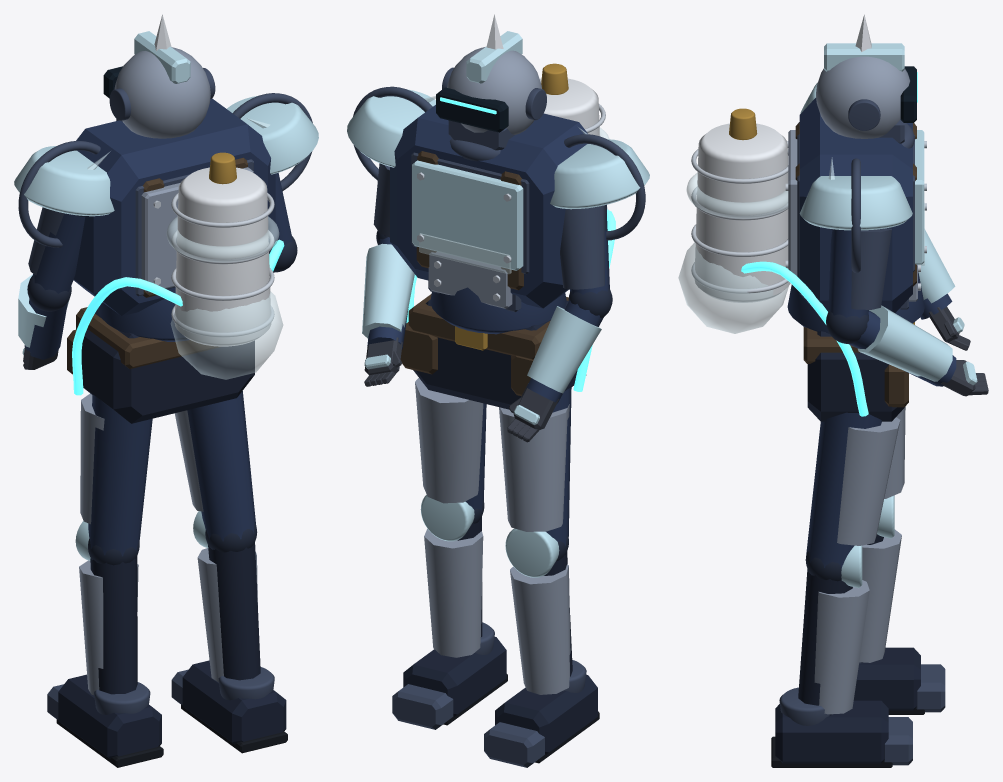
The model's file is hero_glacier.glb.
3 renders of one model, left to right at view 1: azimuth 30°, elevation 25°; view 2: azimuth 150°, elevation 25°; view 3: azimuth 270°, elevation 25°, orthographic.
Parts seen in each view (by area): view 1: hero_glacier_chest, hero_glacier_dewar, hero_glacier_pelvis, hero_glacier_thigh_l, hero_glacier_thigh_r, hero_glacier_dewar_frost, hero_glacier_helmet, hero_glacier_shin_r, hero_glacier_shin_l, hero_glacier_boot_l, hero_glacier_boot_r, hero_glacier_pauldron-1 (+32 smaller); view 2: hero_glacier_chest, hero_glacier_chest_plate_face, hero_glacier_thigh_plate_r, hero_glacier_thigh_plate_l, hero_glacier_greave_l, hero_glacier_greave_r, hero_glacier_pelvis, hero_glacier_pauldron-1, hero_glacier_boot_r, hero_glacier_boot_l, hero_glacier_helmet, hero_glacier_bracer_r (+34 smaller); view 3: hero_glacier_dewar, hero_glacier_chest, hero_glacier_boot_r, hero_glacier_greave_r, hero_glacier_thigh_plate_r, hero_glacier_dewar_frost, hero_glacier_helmet, hero_glacier_thigh_r, hero_glacier_pauldron1, hero_glacier_pelvis, hero_glacier_bracer_r, hero_glacier_greave_l (+33 smaller).
Part boxes in pixels (left/top/right/bottom): hero_glacier_chest: left=73, top=98, right=275, bottom=316; hero_glacier_dewar: left=174, top=167, right=271, bottom=346; hero_glacier_pelvis: left=81, top=308, right=254, bottom=423; hero_glacier_thigh_l: left=88, top=394, right=152, bottom=556; hero_glacier_thigh_r: left=187, top=391, right=256, bottom=541; hero_glacier_dewar_frost: left=170, top=291, right=283, bottom=379; hero_glacier_helmet: left=114, top=47, right=210, bottom=138; hero_glacier_shin_r: left=208, top=543, right=260, bottom=680; hero_glacier_shin_l: left=90, top=556, right=137, bottom=694; hero_glacier_boot_l: left=58, top=674, right=161, bottom=759; hero_glacier_boot_r: left=182, top=660, right=286, bottom=744; hero_glacier_pauldron-1: left=14, top=146, right=114, bottom=216; hero_glacier_chest: left=390, top=105, right=606, bottom=308; hero_glacier_chest_plate_face: left=412, top=160, right=523, bottom=270; hero_glacier_thigh_plate_r: left=415, top=378, right=483, bottom=503; hero_glacier_thigh_plate_l: left=499, top=404, right=569, bottom=531; hero_glacier_greave_l: left=510, top=564, right=570, bottom=694; hero_glacier_greave_r: left=424, top=529, right=483, bottom=657; hero_glacier_pelvis: left=413, top=299, right=586, bottom=409; hero_glacier_pauldron-1: left=550, top=139, right=649, bottom=209; hero_glacier_boot_r: left=403, top=637, right=506, bottom=716; hero_glacier_boot_l: left=495, top=674, right=597, bottom=754; hero_glacier_helmet: left=447, top=47, right=541, bottom=134; hero_glacier_bracer_r: left=362, top=243, right=414, bottom=338; hero_glacier_dewar: left=694, top=123, right=790, bottom=302; hero_glacier_chest: left=799, top=98, right=912, bottom=312; hero_glacier_boot_r: left=775, top=700, right=888, bottom=763; hero_glacier_greave_r: left=814, top=580, right=869, bottom=714; hero_glacier_thigh_plate_r: left=837, top=417, right=900, bottom=545; hero_glacier_dewar_frost: left=678, top=242, right=788, bottom=333; hero_glacier_helmet: left=816, top=56, right=909, bottom=138; hero_glacier_thigh_r: left=806, top=412, right=881, bottom=569; hero_glacier_pauldron1: left=799, top=176, right=912, bottom=230; hero_glacier_pelvis: left=807, top=331, right=904, bottom=421; hero_glacier_bracer_r: left=858, top=305, right=952, bottom=381; hero_glacier_greave_l: left=859, top=529, right=901, bottom=662.
Size of the model in its own units: 0.8436 by 1.96 by 0.7674.
